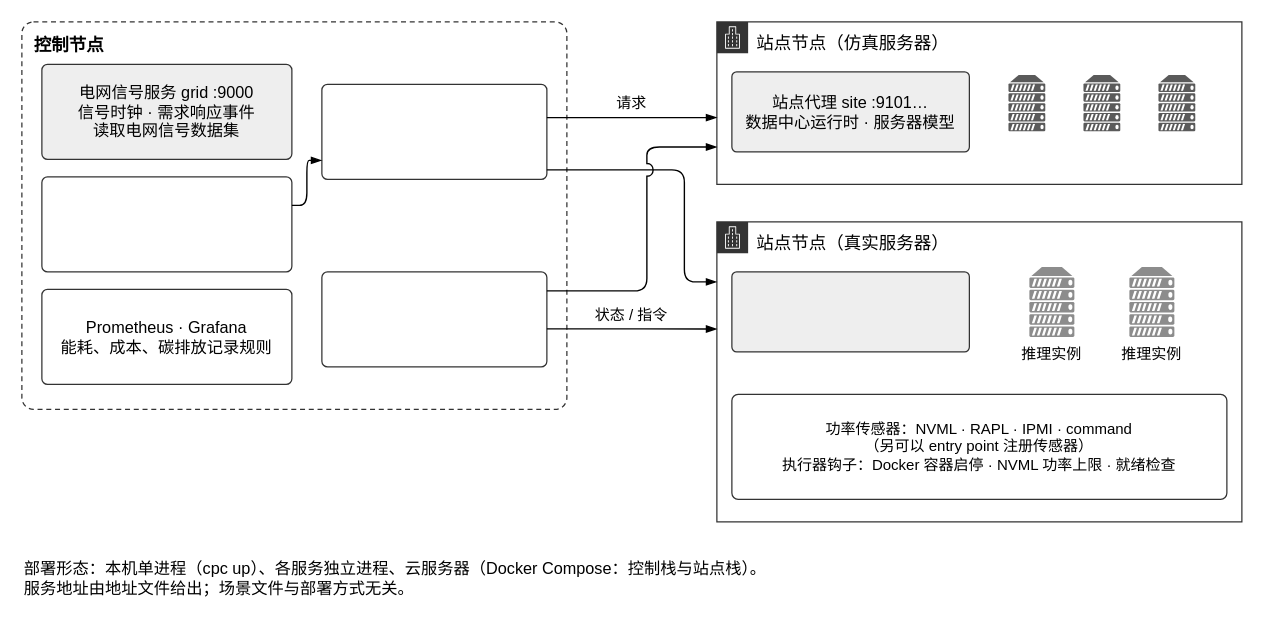
Some shapes in this 1264 by 631 pixel diagram are drawn without their labels. The centre of each missing label's shape, as x and y in pixels:
"控制器 controller :9300 采集 → 决策 → 下发" goes at (434,319).
"站点代理 site 执行器钩子 · 传感器采样" goes at (850,311).
"网关 gateway :8080 路由 · 重试 广域网时延注入" goes at (434,131).
"负载回放 cpc live 按负载 trace 回放请求，采样站点 与电网信号，写出结果数据包" goes at (166,224).
